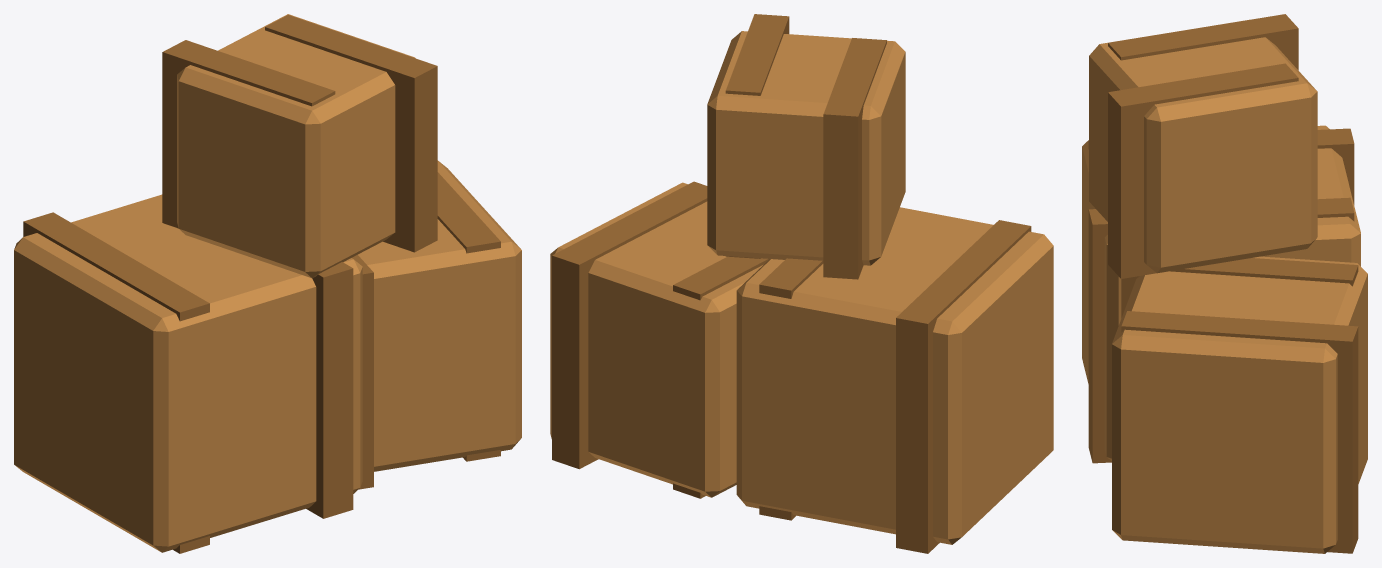
File: hd_crates.gltf
3 views of the same model, side by side, from view 1: azimuth 30°, elevation 25°; view 2: azimuth 150°, elevation 25°; view 3: azimuth 270°, elevation 25° (orthographic). The views are drawn at different scales.
Visible parts, largest first — view 1: c0, c2, c1, edge2_0.32, edge0_0.32, edge2_-0.32, edge0_-0.32, edge1_-0.32, edge1_0.32; view 2: c0, c1, c2, edge0_-0.32, edge1_0.32, edge2_-0.32, edge2_0.32, edge1_-0.32, edge0_0.32; view 3: c1, c2, edge2_0.32, edge1_0.32, c0, edge0_0.32, edge2_-0.32, edge1_-0.32, edge0_-0.32.
Boxes of the visible parts, x1,y1,x2,y2 form: c0: [14, 194, 362, 552]; c2: [177, 14, 415, 278]; c1: [358, 160, 521, 471]; edge2_0.32: [265, 15, 437, 252]; edge0_0.32: [306, 262, 353, 518]; edge2_-0.32: [162, 40, 335, 228]; edge0_-0.32: [23, 212, 209, 553]; edge1_-0.32: [352, 255, 373, 489]; edge1_0.32: [437, 172, 500, 461]; c0: [736, 207, 1053, 544]; c1: [550, 182, 762, 497]; c2: [707, 31, 905, 265]; edge0_-0.32: [896, 220, 1031, 553]; edge1_0.32: [552, 181, 707, 469]; edge2_-0.32: [823, 38, 886, 279]; edge2_0.32: [725, 14, 789, 258]; edge1_-0.32: [673, 256, 769, 498]; edge0_0.32: [759, 258, 823, 520]; c1: [1112, 256, 1367, 553]; c2: [1089, 19, 1317, 273]; edge2_0.32: [1108, 63, 1298, 278]; edge1_0.32: [1121, 311, 1358, 553]; c0: [1082, 125, 1360, 460]; edge0_0.32: [1088, 197, 1354, 463]; edge2_-0.32: [1108, 14, 1298, 70]; edge1_-0.32: [1121, 258, 1358, 318]; edge0_-0.32: [1088, 128, 1354, 204].
Bounding box in the file's own units: 1.35 × 1.22 × 0.7815.
